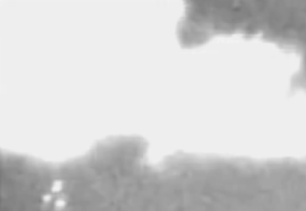Target: (44, 181, 66, 206)
